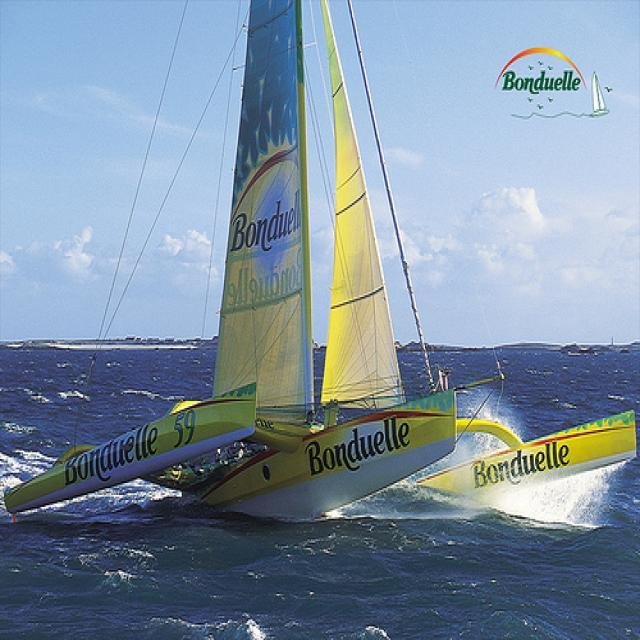Ship: (15, 3, 640, 541)
